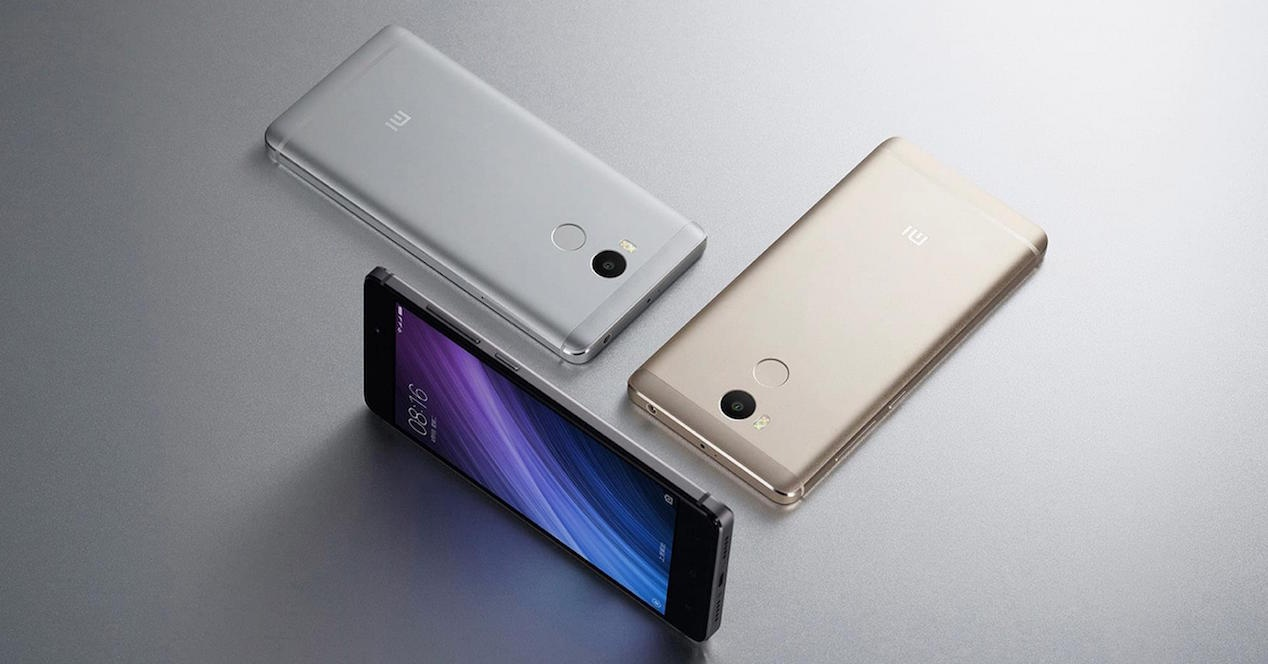smartphone: (625, 137, 1047, 505), (263, 21, 707, 365), (362, 266, 735, 644)
